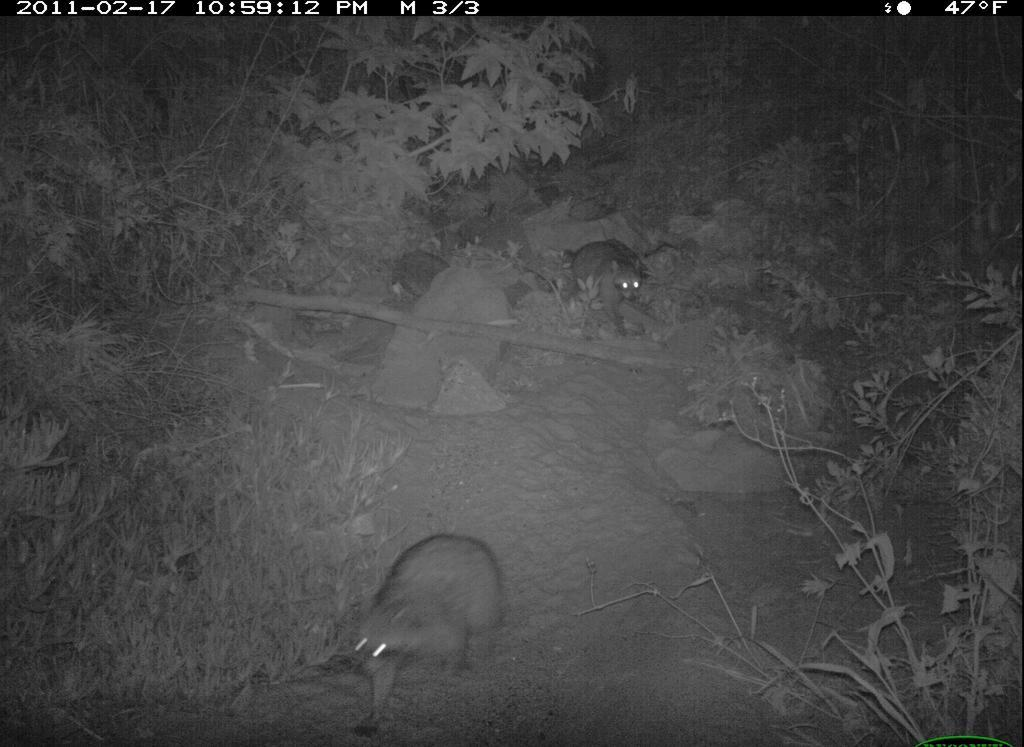raccoon: (333, 520, 516, 740), (557, 235, 675, 337)
